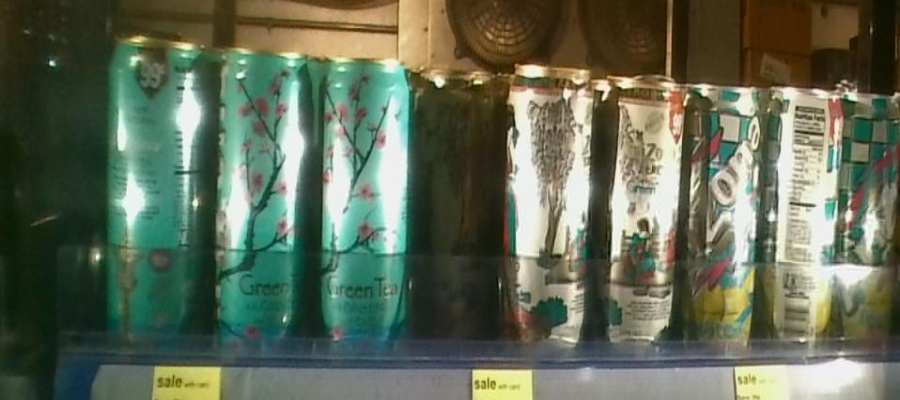bottle: (101, 20, 208, 350), (212, 26, 315, 359), (318, 29, 411, 360), (507, 58, 596, 365), (680, 61, 764, 362), (416, 42, 499, 345), (599, 55, 678, 355), (768, 72, 840, 369), (844, 65, 895, 369)
